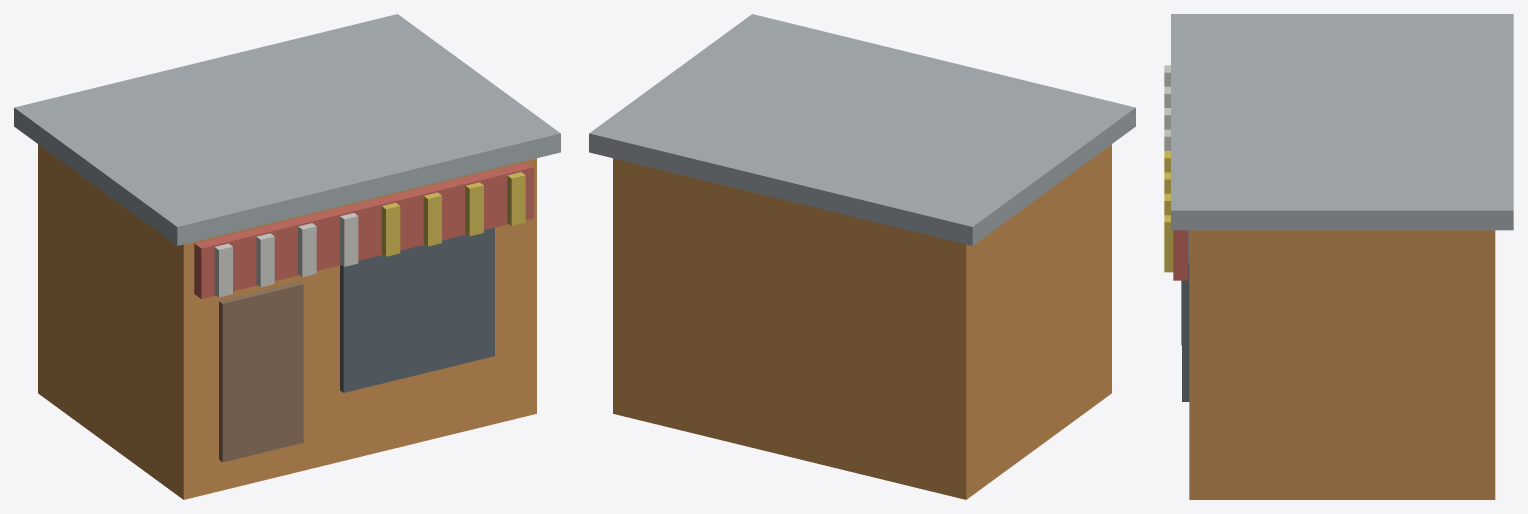
The model's file is spaza_shop.glb.
The picture shows the model from 3 angles, left to right: view 1: azimuth 30°, elevation 25°; view 2: azimuth 150°, elevation 25°; view 3: azimuth 270°, elevation 25°; orthographic projection. The views are drawn at different scales.
Visible parts, largest first — view 1: part_0, part_1, part_2, part_3, part_4, part_9, part_5, part_6, part_10, part_11, part_7, part_8 (+1 smaller); view 2: part_0, part_1; view 3: part_0, part_1, part_2, part_4, part_12.
Boxes of the visible parts, bbox=[...] form: part_0: bbox=[38, 144, 536, 499]; part_1: bbox=[14, 14, 560, 245]; part_2: bbox=[340, 227, 494, 392]; part_3: bbox=[219, 281, 303, 462]; part_4: bbox=[194, 162, 534, 298]; part_9: bbox=[381, 202, 400, 256]; part_5: bbox=[214, 243, 232, 297]; part_6: bbox=[256, 233, 274, 287]; part_10: bbox=[423, 192, 441, 246]; part_11: bbox=[465, 182, 483, 236]; part_7: bbox=[298, 223, 316, 276]; part_8: bbox=[340, 213, 358, 266]; part_0: bbox=[613, 144, 1111, 499]; part_1: bbox=[589, 14, 1135, 245]; part_0: bbox=[1189, 230, 1495, 499]; part_1: bbox=[1171, 14, 1513, 230]; part_2: bbox=[1182, 230, 1189, 401]; part_4: bbox=[1173, 230, 1188, 280]; part_12: bbox=[1164, 215, 1173, 272].
Bounding box in the file's own units: 3.8 × 2.68 × 2.86.
